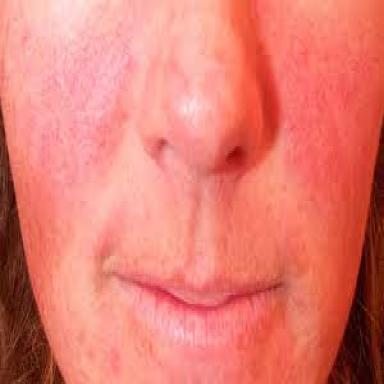burn: (94, 0, 383, 382), (0, 2, 158, 382)
